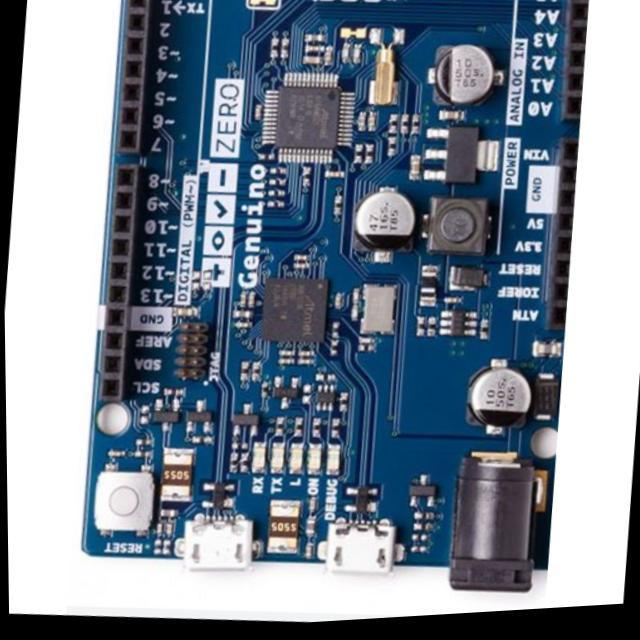Arduino-Zero: (81, 1, 585, 591)
